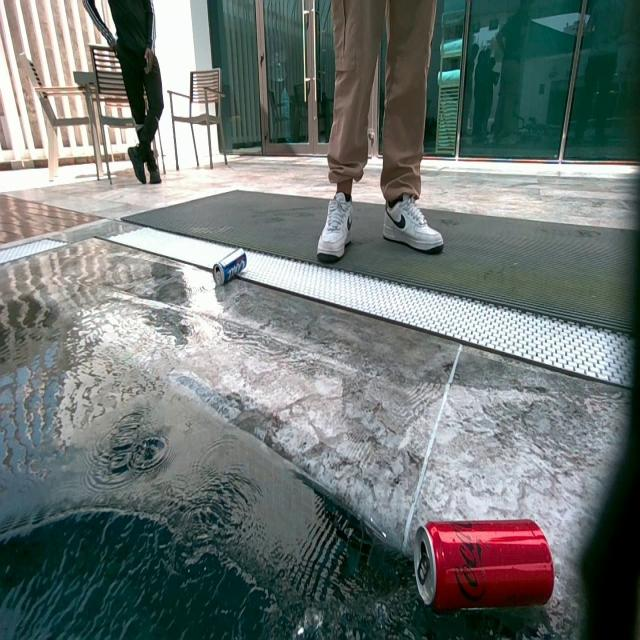Cans: (414, 520, 555, 614), (212, 250, 249, 288)
